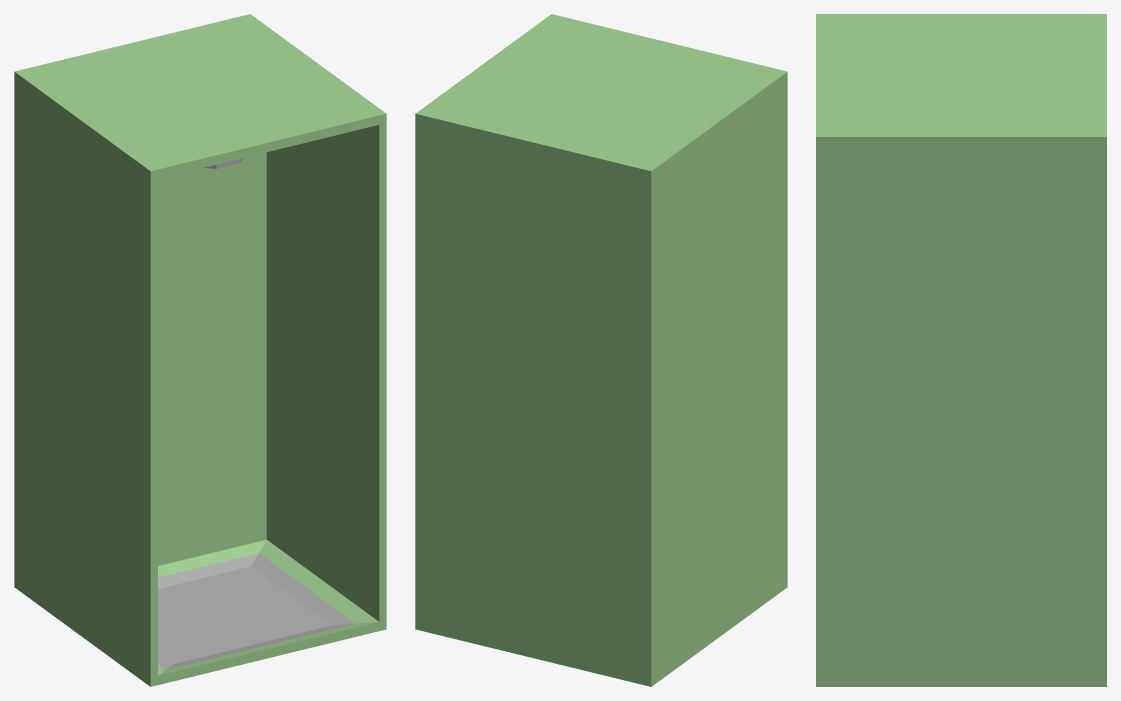
File: Shower.fbx
3 renders of one model, left to right at view 1: azimuth 30°, elevation 25°; view 2: azimuth 150°, elevation 25°; view 3: azimuth 270°, elevation 25°, orthographic. The views are drawn at different scales.
Visible parts, largest first — view 1: Shower; view 2: Shower; view 3: Shower.
Boxes of the visible parts, x1,y1,x2,y2 form: Shower: (14, 14, 386, 686); Shower: (415, 14, 787, 686); Shower: (816, 14, 1106, 686).
Size of the model in its own units: 274 by 571 by 274.
